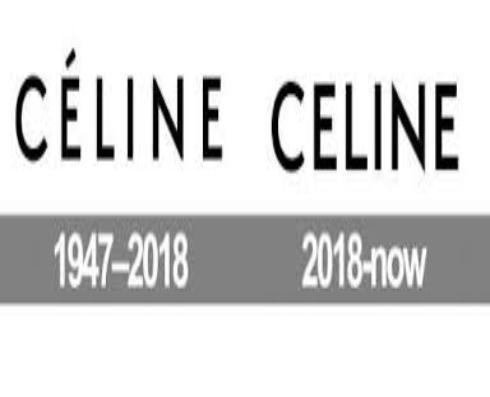CELINE: (7, 30, 224, 190), (265, 54, 468, 193)
